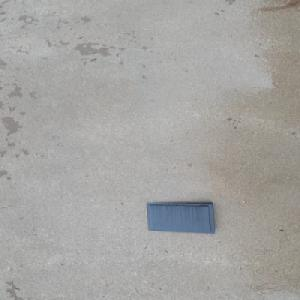PlasticPart: (144, 201, 216, 234)
